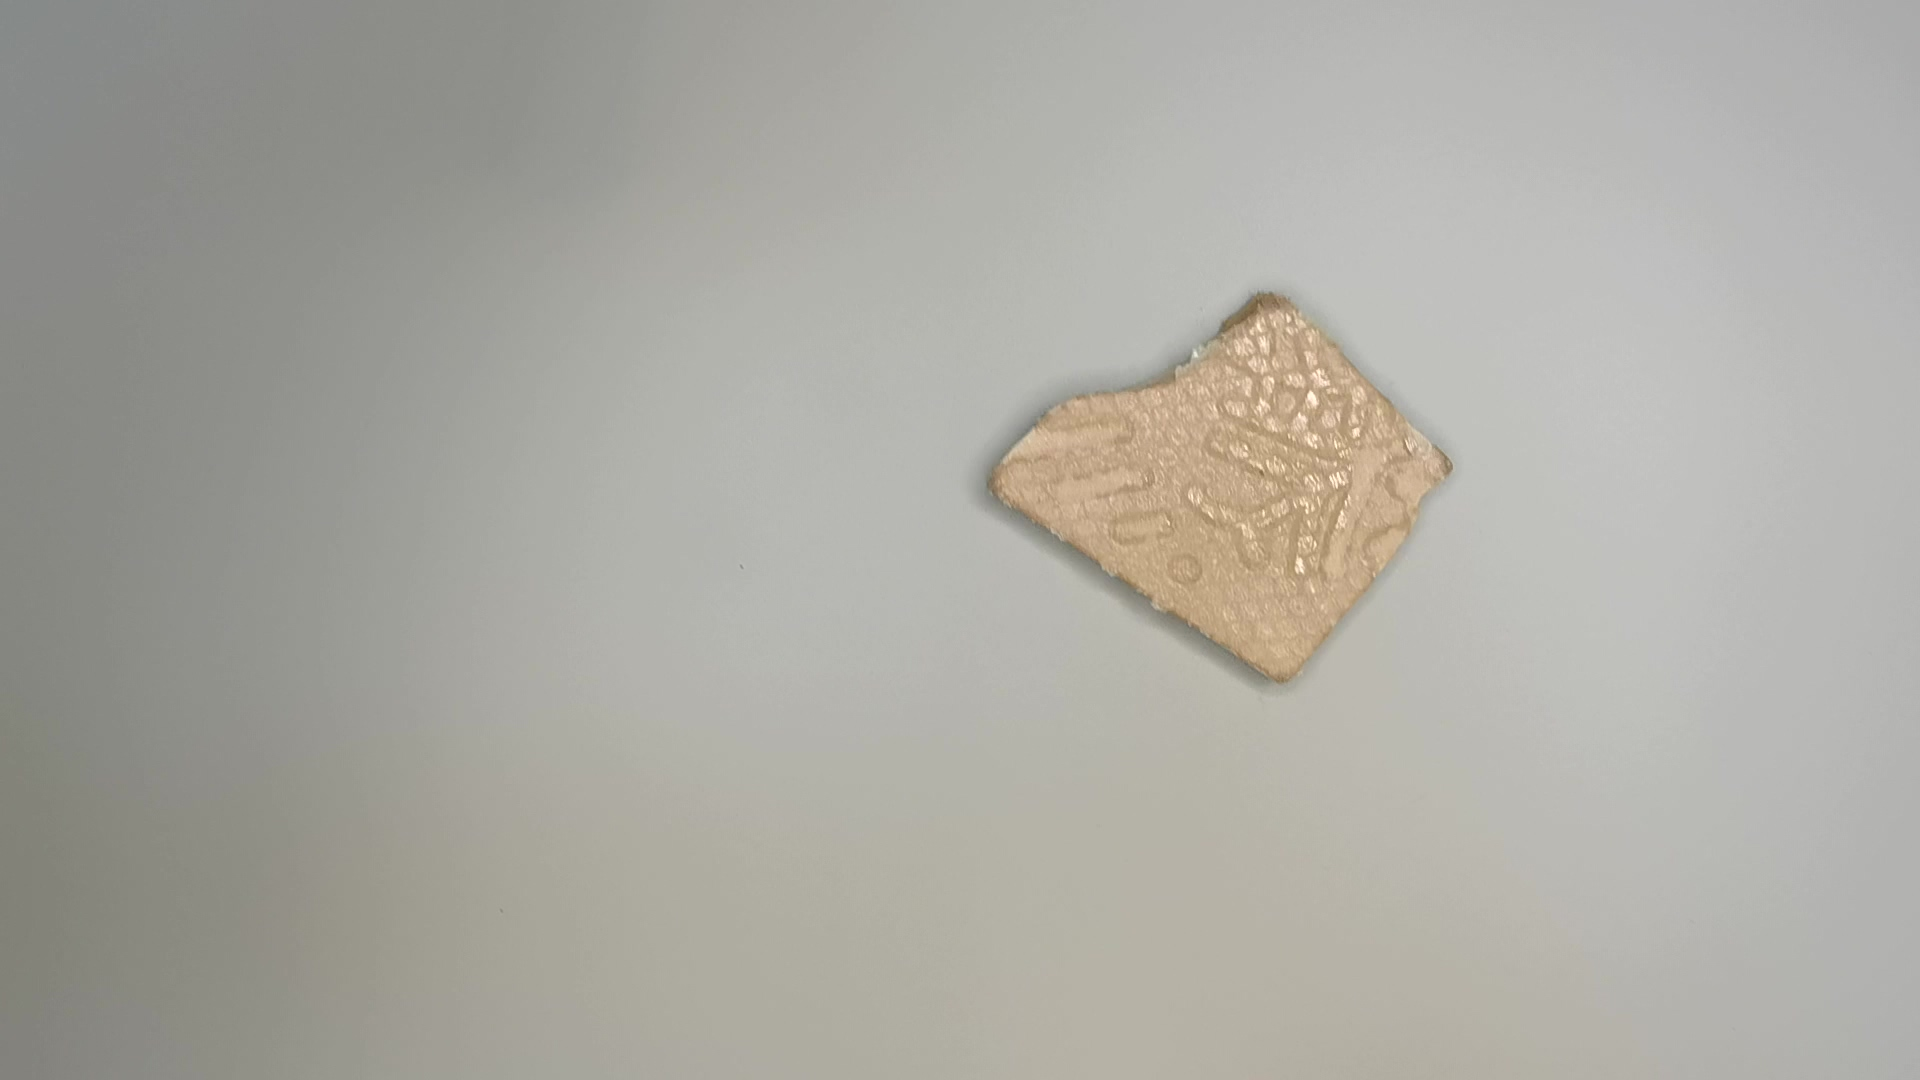ceramic: (971, 285, 1466, 691)
